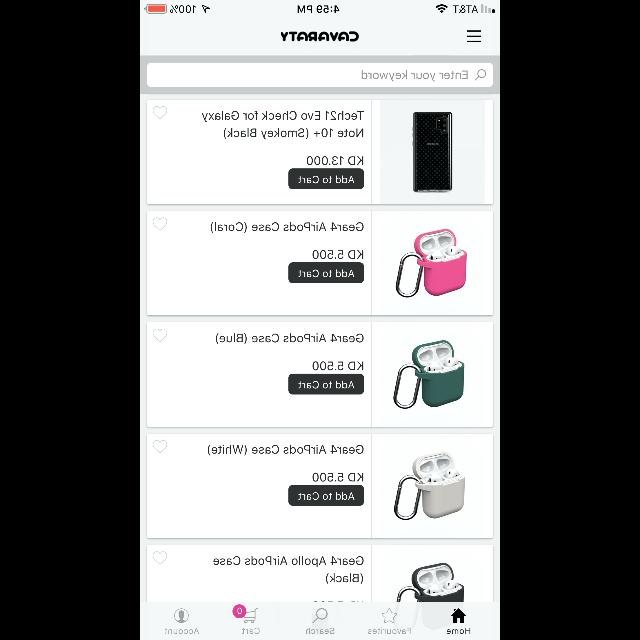icon: (232, 604, 258, 624), (312, 608, 328, 624), (450, 608, 466, 624), (153, 106, 167, 120), (175, 609, 189, 623), (382, 609, 396, 623), (466, 31, 482, 43), (153, 441, 167, 454), (153, 218, 167, 230), (153, 330, 167, 342), (153, 552, 167, 564), (474, 70, 486, 80)
image: (395, 228, 467, 298), (393, 452, 465, 520), (394, 339, 464, 408), (412, 111, 452, 192), (396, 562, 464, 602)
input: (147, 63, 493, 87)
text: (202, 110, 364, 140), (213, 556, 363, 584), (208, 444, 364, 456), (210, 222, 364, 234), (216, 334, 364, 344), (361, 70, 467, 82), (281, 32, 359, 42), (306, 157, 364, 166), (312, 472, 363, 482), (312, 250, 363, 260), (312, 362, 363, 371), (368, 628, 410, 634), (165, 628, 199, 634), (306, 628, 334, 634), (446, 628, 469, 634), (242, 628, 260, 634)
textbutton: (288, 168, 364, 190), (288, 262, 364, 284), (288, 374, 364, 394), (288, 486, 364, 506)
uppertaskbar: (140, 0, 500, 14)
